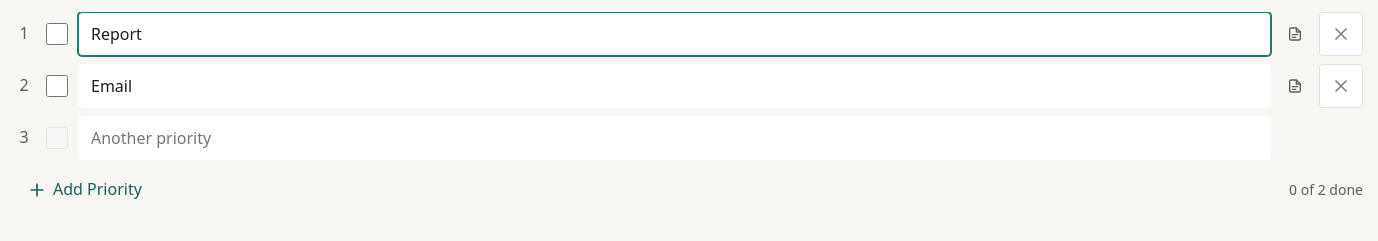
Priorities: a blank name › saves the name as it was, says so as the field's description, and brings the name back when the box is left
Clear the text box named "Priority 1" at (674, 34), box [78,12,1271,56]
Wait 400 ms
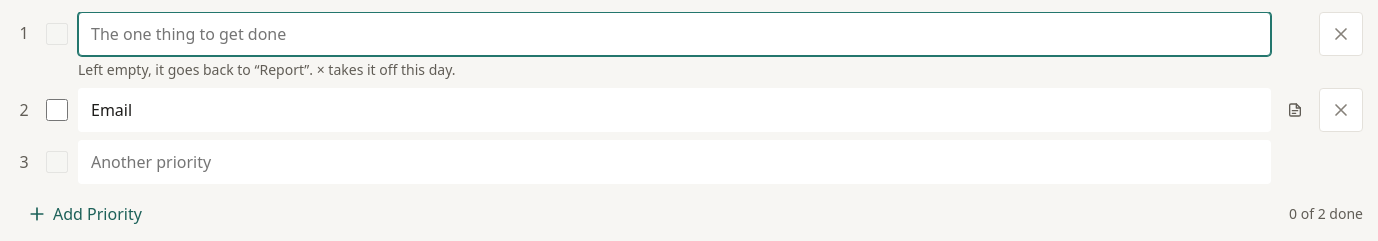
Leave the text box named "Priority 1", box [78,12,1271,56]
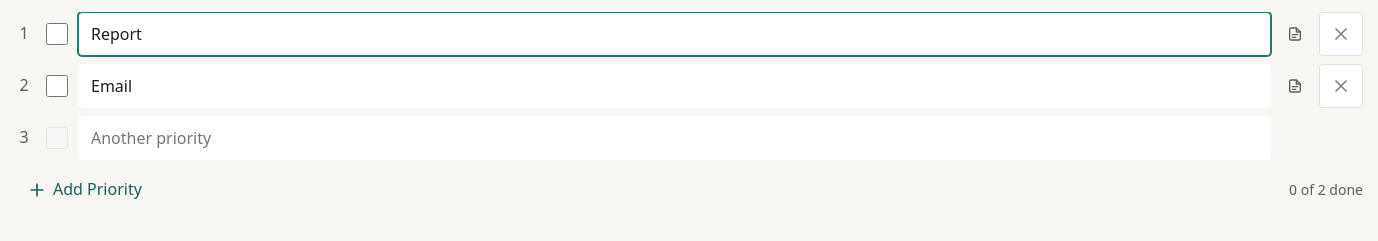
Check: the text box named "Priority 1" holds "Report", box [78,12,1271,56]
